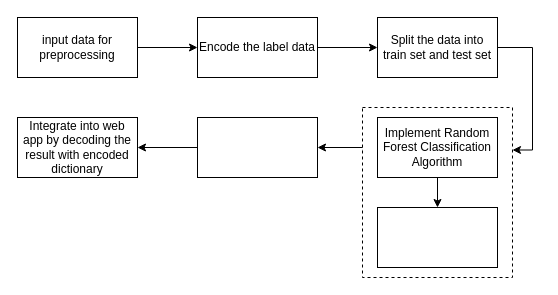
This 558x295 diagram has some shape labels left out. Here are the shapes that lost their labels. From the top down, the centre of each, then its label:
At [257,147]: "Save the model and perform testing".
At [437,237]: "Use CART Algorithm to create decision tree".
